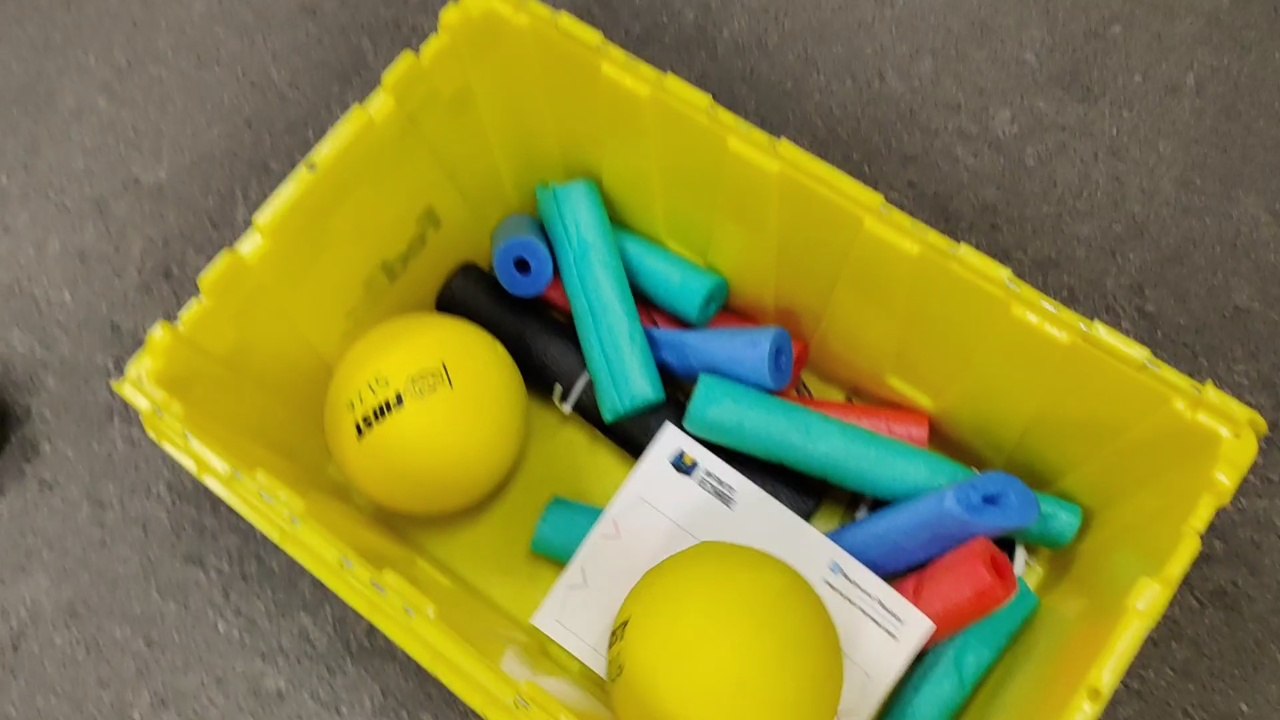Ball: (610, 541, 853, 720), (329, 311, 529, 515)
